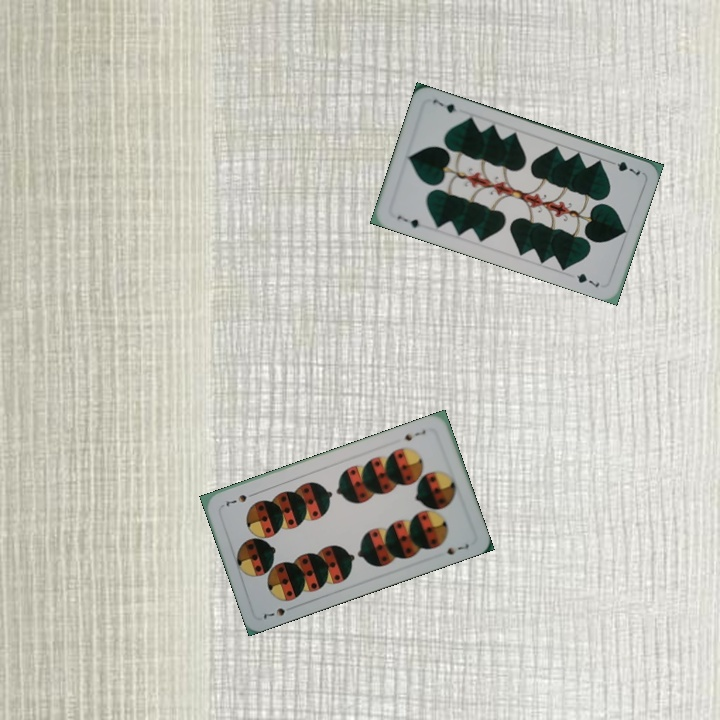G7: (605, 156, 643, 178), (393, 211, 422, 230)
S7: (259, 604, 288, 623), (401, 425, 428, 443)
